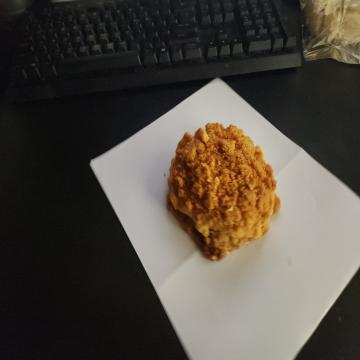soboru_bread: (167, 121, 282, 264)
